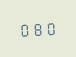eight: (32, 20, 44, 36)
zero: (18, 21, 30, 37), (45, 19, 57, 35)
